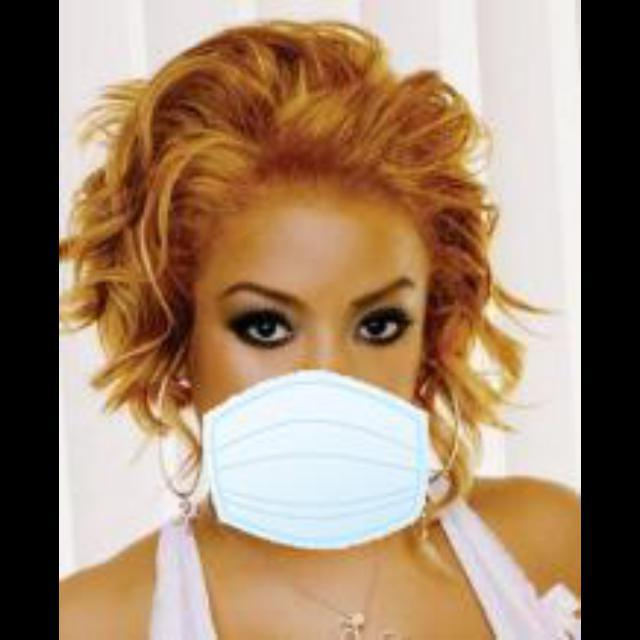suspicion: (160, 103, 460, 531)
